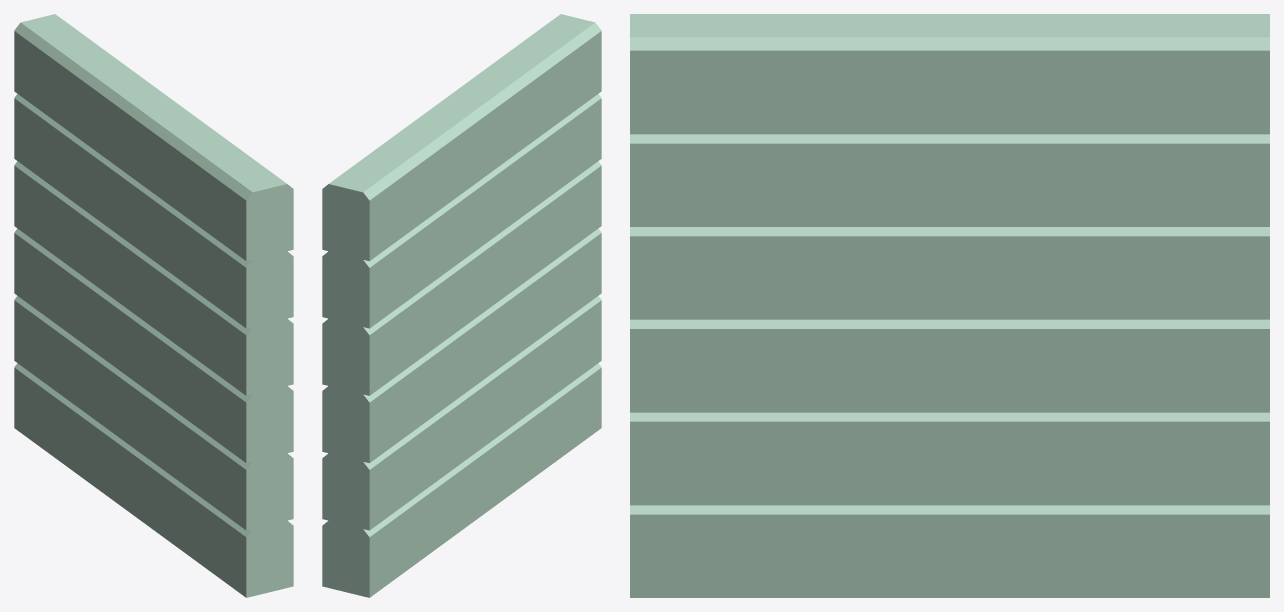
File: Wall01_house3.fbx
The picture shows the model from 3 angles, left to right: view 1: azimuth 30°, elevation 25°; view 2: azimuth 150°, elevation 25°; view 3: azimuth 270°, elevation 25°; orthographic projection. The views are drawn at different scales.
Visible parts, largest first — view 1: Wall01_house03; view 2: Wall01_house03; view 3: Wall01_house03.
Part boxes in pixels (x1,y1,x2,y2): Wall01_house03: (14,14,293,597); Wall01_house03: (322,14,601,597); Wall01_house03: (630,14,1269,597).
Size of the model in its own units: 40.6 by 330 by 344.
